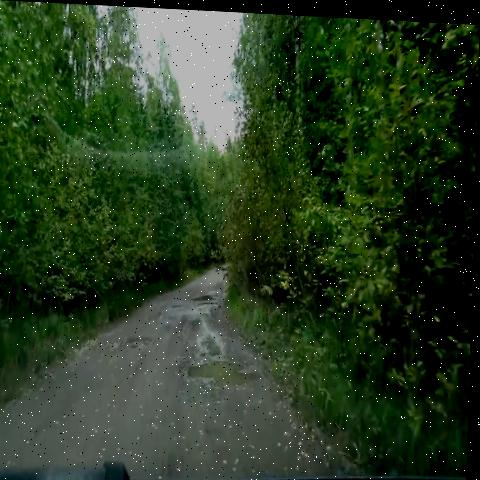pothole: (171, 348, 270, 405), (119, 317, 160, 368), (193, 280, 228, 313), (169, 295, 191, 316)
